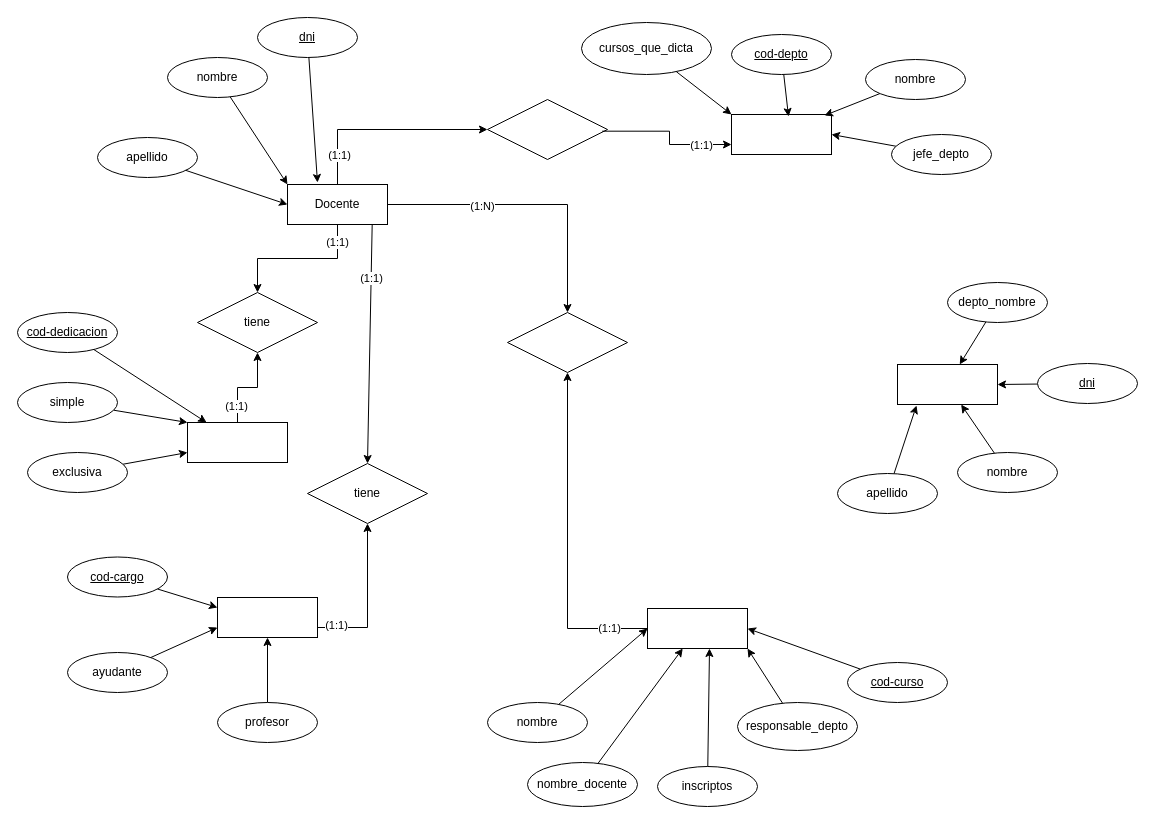
Image size: 1155x824. Some labels were removed from this diagram. Here are the shapes that lost their labels. From the top down, the centre of each, then its label:
At pixel 547 129: "pertenece a".
At pixel 781 134: "Departamento".
At pixel 567 342: "dicta".
At pixel 947 384: "Alumno".
At pixel 237 442: "Dedicación".
At pixel 267 617: "Cargo".
At pixel 697 628: "Curso".
